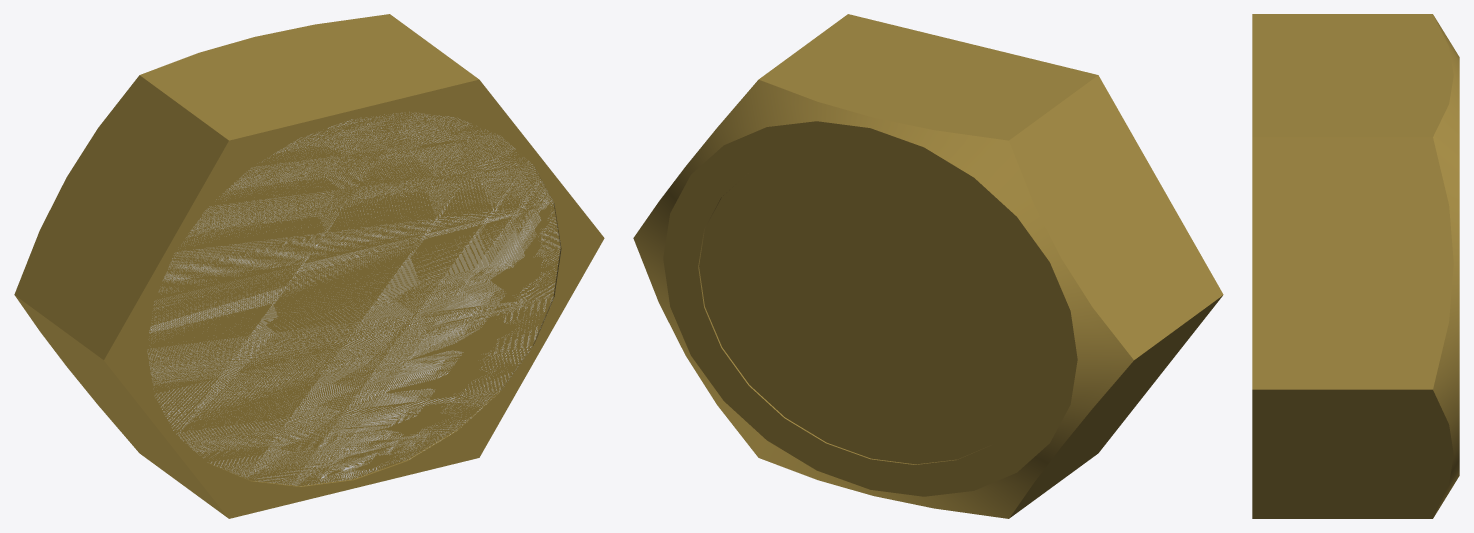
Rendered from original-58.obj.
3 renders of one model, left to right at view 1: azimuth 30°, elevation 25°; view 2: azimuth 150°, elevation 25°; view 3: azimuth 270°, elevation 25°, orthographic.
Visible parts, largest first — view 1: Group8/mesh87/mesh87-geometry#mesh87-geometry; view 2: Group8/mesh87/mesh87-geometry#mesh87-geometry; view 3: Group8/mesh87/mesh87-geometry#mesh87-geometry.
Part boxes in pixels (bbox=[...]): Group8/mesh87/mesh87-geometry#mesh87-geometry: bbox=[14, 14, 604, 518]; Group8/mesh87/mesh87-geometry#mesh87-geometry: bbox=[633, 14, 1223, 518]; Group8/mesh87/mesh87-geometry#mesh87-geometry: bbox=[1252, 14, 1459, 518].
Bounding box in the file's own units: 0.0182 × 0.0131 × 0.00647.
